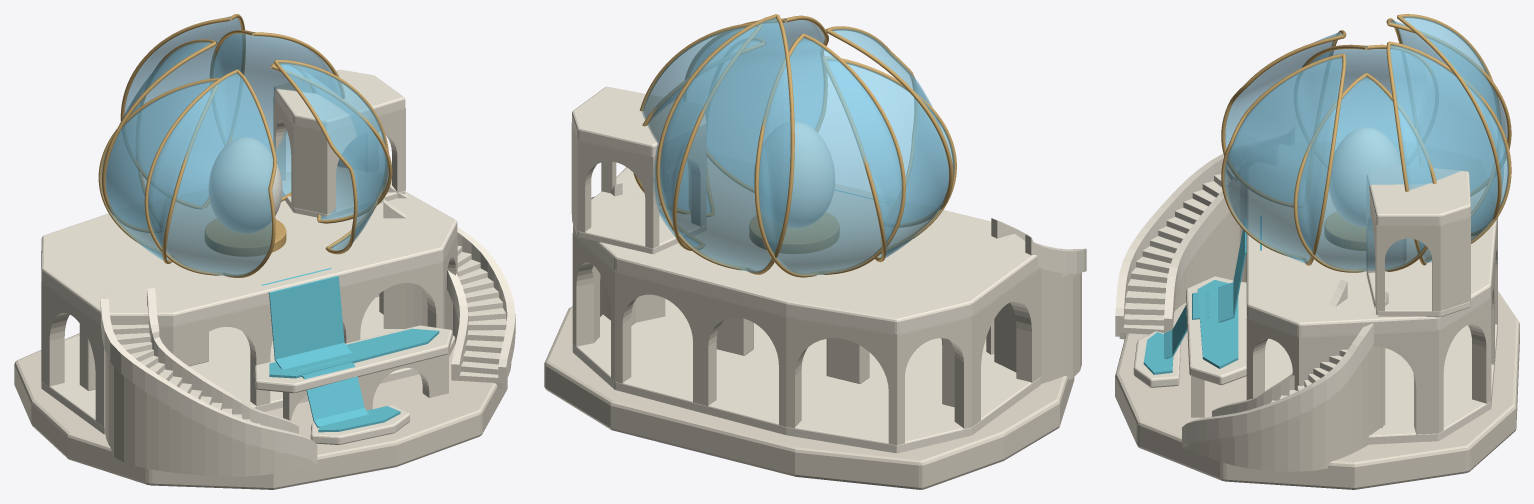
Rendered from blockout-b01.glb.
3 renders of one model, left to right at view 1: azimuth 30°, elevation 25°; view 2: azimuth 150°, elevation 25°; view 3: azimuth 270°, elevation 25°, orthographic. The views are drawn at different scales.
Visible parts, largest first — view 1: terraces-level1-light-limestone, conservatory-level2-blue-petal-glass, terraces-level1-ivory-limestone, conservatory-level1-blue-petal-glass, wings-level1-ivory-limestone, terraces-level1-cascade-water, conservatory-level2-structural-brass, wings-level2-ivory-limestone, wings-level2-light-limestone, egg-level1-pale-egg, conservatory-level1-structural-brass, egg-level1-structural-brass; view 2: terraces-level1-light-limestone, conservatory-level2-blue-petal-glass, conservatory-level1-blue-petal-glass, terraces-level1-ivory-limestone, wings-level1-ivory-limestone, wings-level2-light-limestone, conservatory-level2-structural-brass, wings-level2-ivory-limestone, conservatory-level1-structural-brass, egg-level1-pale-egg, egg-level1-structural-brass; view 3: terraces-level1-light-limestone, terraces-level1-ivory-limestone, conservatory-level2-blue-petal-glass, conservatory-level1-blue-petal-glass, wings-level1-ivory-limestone, wings-level2-light-limestone, conservatory-level2-structural-brass, wings-level2-ivory-limestone, terraces-level1-cascade-water, conservatory-level1-structural-brass, egg-level1-pale-egg, egg-level1-structural-brass.
Boxes of the visible parts, x1,y1,x2,y2 form: terraces-level1-light-limestone: [41, 172, 515, 464]; conservatory-level2-blue-petal-glass: [105, 33, 386, 276]; terraces-level1-ivory-limestone: [14, 252, 511, 489]; conservatory-level1-blue-petal-glass: [101, 16, 388, 260]; wings-level1-ivory-limestone: [41, 232, 457, 426]; terraces-level1-cascade-water: [261, 268, 439, 432]; conservatory-level2-structural-brass: [101, 29, 388, 277]; wings-level2-ivory-limestone: [273, 97, 405, 214]; wings-level2-light-limestone: [274, 69, 405, 218]; egg-level1-pale-egg: [209, 137, 282, 233]; conservatory-level1-structural-brass: [98, 14, 392, 263]; egg-level1-structural-brass: [205, 219, 286, 256]; terraces-level1-light-limestone: [572, 157, 1086, 453]; conservatory-level2-blue-petal-glass: [642, 19, 948, 275]; conservatory-level1-blue-petal-glass: [654, 17, 954, 272]; terraces-level1-ivory-limestone: [544, 268, 1081, 489]; wings-level1-ivory-limestone: [572, 233, 1041, 445]; wings-level2-light-limestone: [572, 86, 706, 254]; conservatory-level2-structural-brass: [639, 15, 953, 277]; wings-level2-ivory-limestone: [571, 122, 706, 248]; conservatory-level1-structural-brass: [633, 14, 956, 274]; egg-level1-pale-egg: [754, 122, 834, 228]; egg-level1-structural-brass: [749, 212, 839, 253]; terraces-level1-light-limestone: [1115, 153, 1497, 447]; terraces-level1-ivory-limestone: [1115, 181, 1519, 489]; conservatory-level2-blue-petal-glass: [1224, 20, 1508, 263]; conservatory-level1-blue-petal-glass: [1297, 16, 1503, 271]; wings-level1-ivory-limestone: [1246, 219, 1497, 434]; wings-level2-light-limestone: [1366, 165, 1470, 317]; conservatory-level2-structural-brass: [1221, 18, 1511, 265]; wings-level2-ivory-limestone: [1366, 187, 1470, 311]; terraces-level1-cascade-water: [1143, 216, 1261, 374]; conservatory-level1-structural-brass: [1293, 14, 1501, 272]; egg-level1-pale-egg: [1329, 127, 1400, 226]; egg-level1-structural-brass: [1324, 211, 1365, 250].
Bounding box in the file's own units: 3.02 × 2.42 × 2.4.
